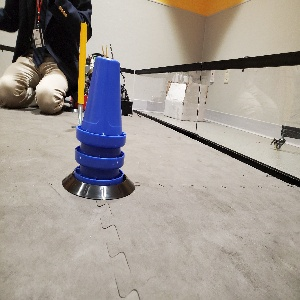Blue_3: (74, 54, 126, 184)
